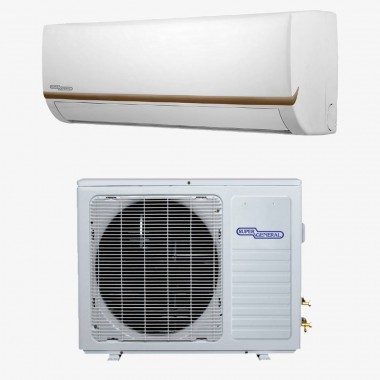ac: (41, 7, 341, 150)
